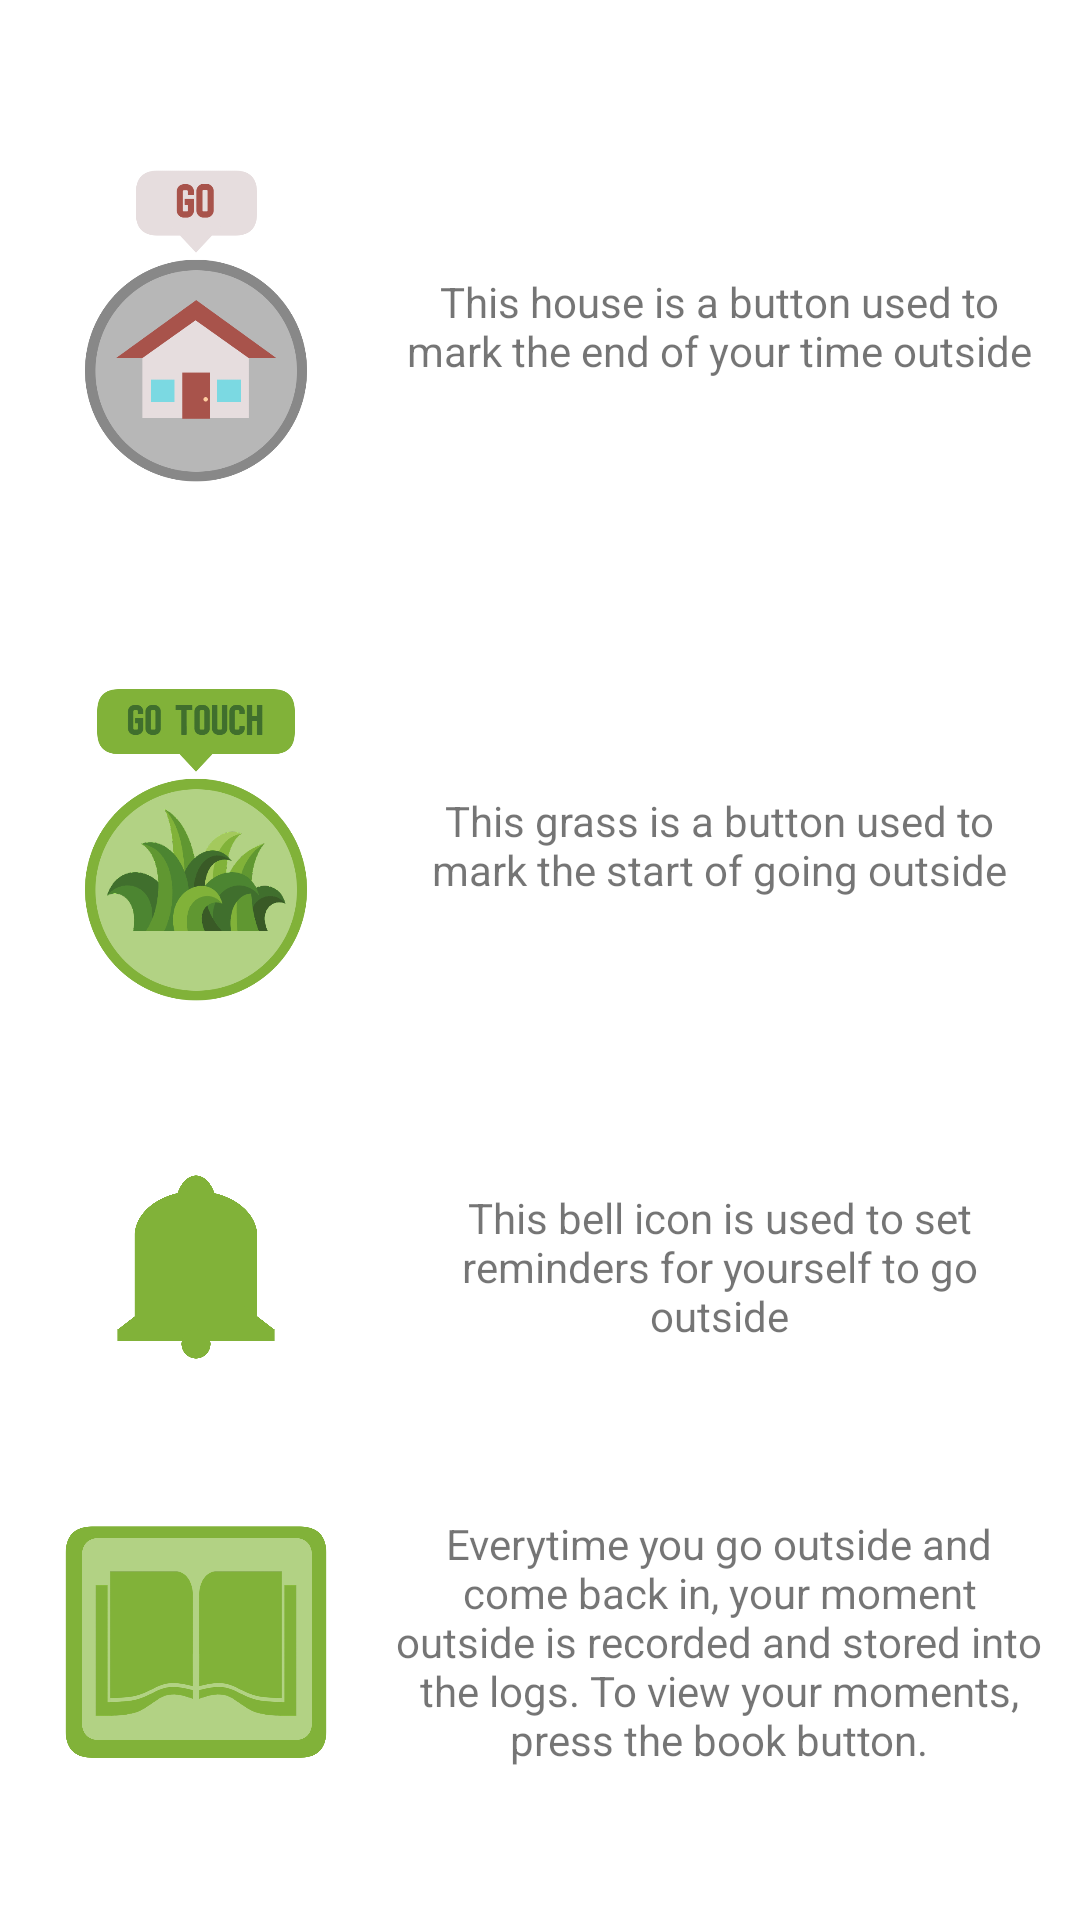

Locate icon controls on the screen. Image size 1080x1920, boxes as (x1, y1, x2, y2).
house no photo: (85, 171, 307, 482)
notification: (117, 1175, 275, 1359)
This book icon is used to view your log of moments outside: (65, 1526, 327, 1758)
